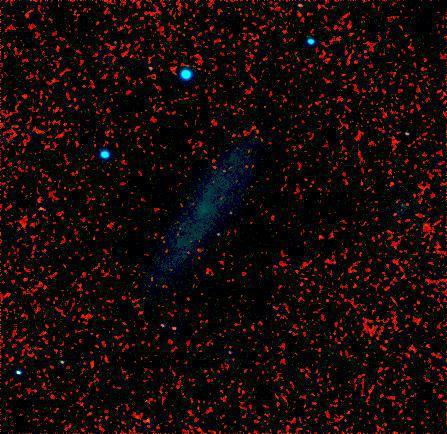star: (216, 195, 246, 225)
